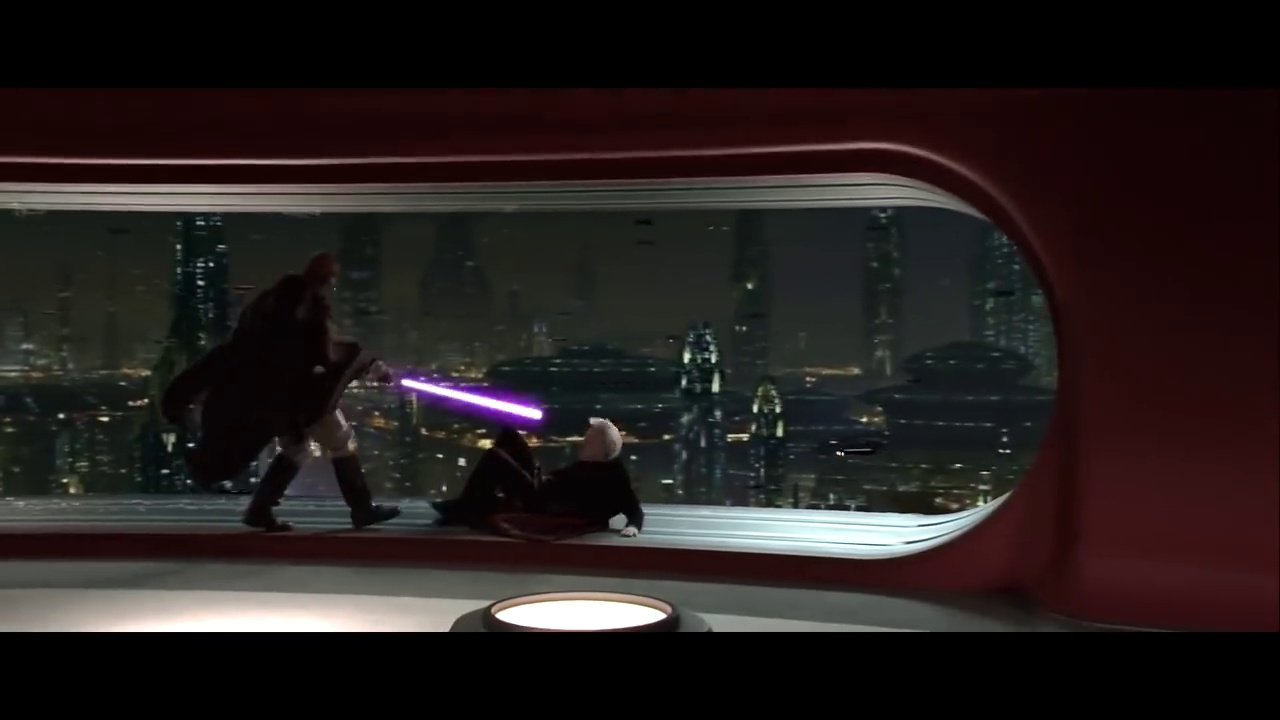lightsaber: (375, 361, 556, 434)
